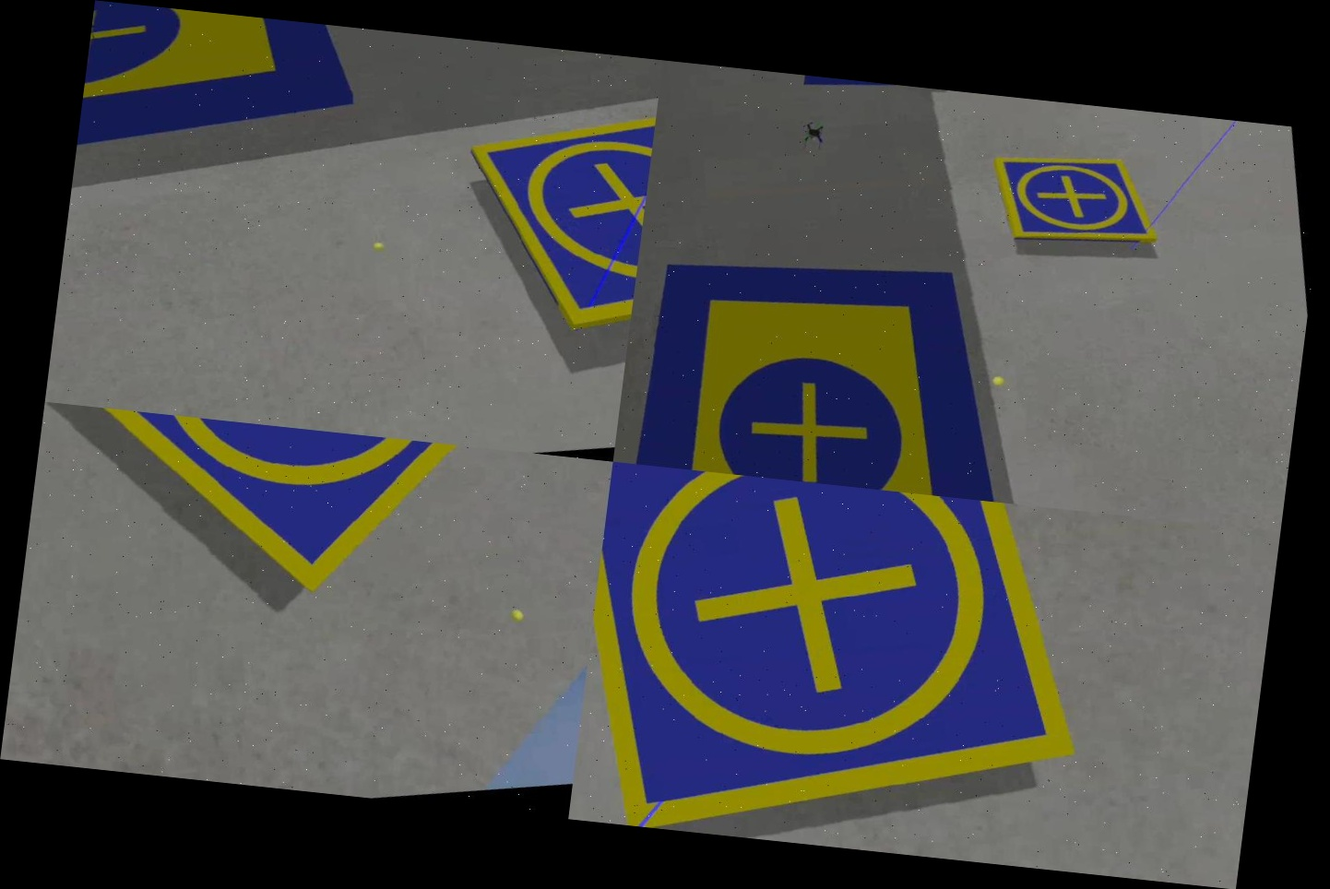large_base: (612, 201, 1085, 508), (70, 0, 366, 228)
small_base: (568, 462, 1116, 871), (19, 402, 588, 659), (444, 67, 659, 345), (984, 124, 1173, 269)
